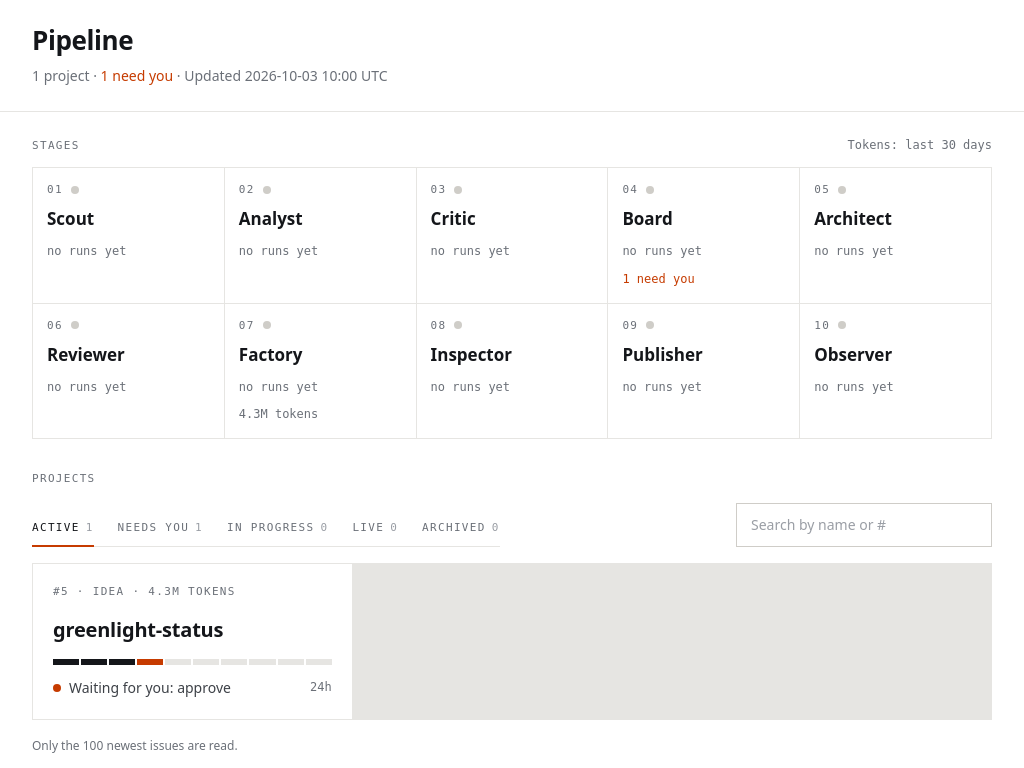
Scenario: Board › shows the tokens each stage and each project used, with the breakdown in the stage drawer
This screenshot has width=1024, height=768.
Expected: the text "Tokens: last 30 days" is shown, [848,136,992,155]
Expected: the text "4.3M tokens" is shown, [239,405,318,424]
Step 1. Click the button "07 Factory no runs yet 4.3M tokens" → (320,371), box [225,304,416,438]
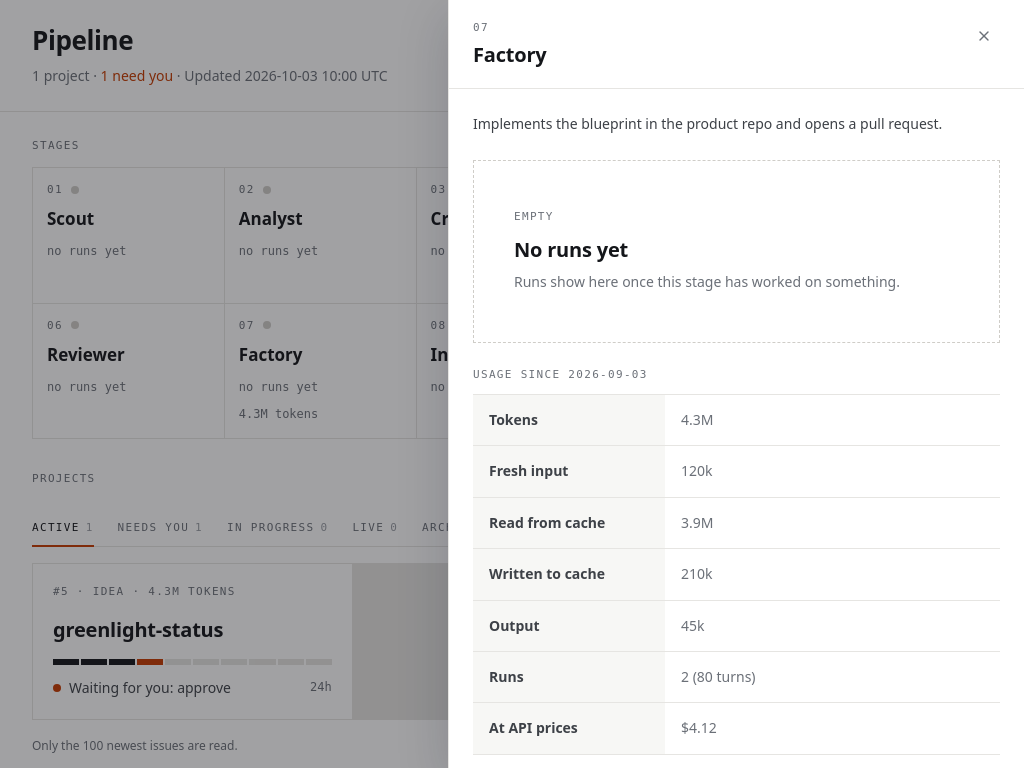
Now the heading "Usage since 2026-09-03" is shown, box [473,368,648,381]
Now the text "3.9M" is shown, box [681,513,714,532]
Now the text "2 (80 turns)" is shown, box [681,667,756,686]
